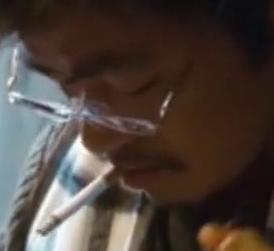smoke: (35, 158, 133, 237)
